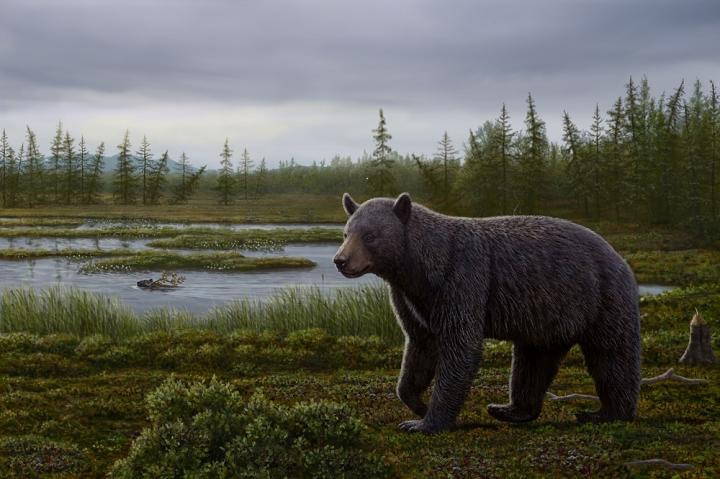bear: (330, 190, 415, 283)
